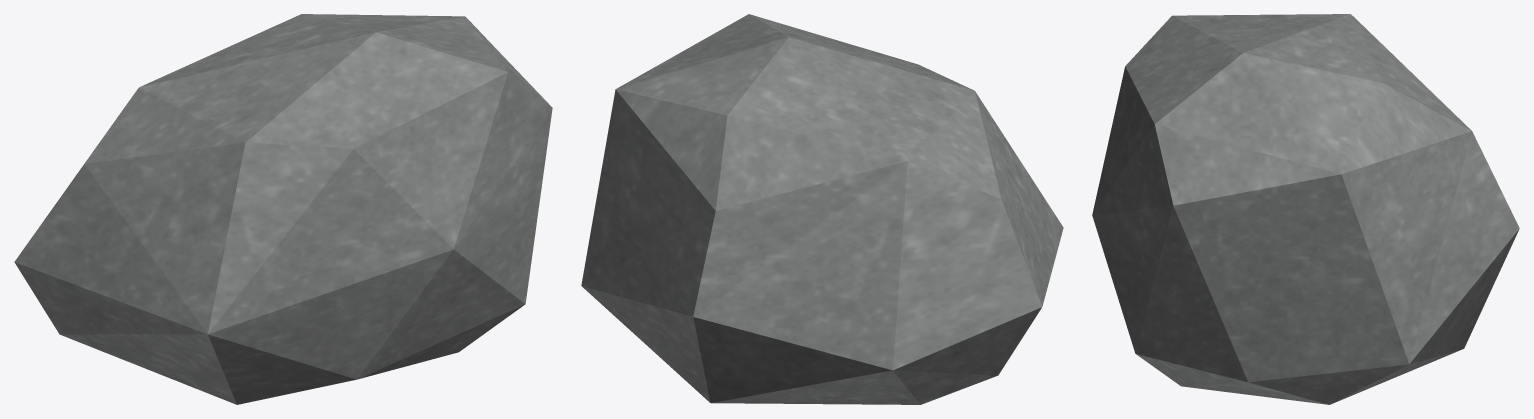
File: boulder_glacial_erratic.glb
3 views of the same model, side by side, from view 1: azimuth 30°, elevation 25°; view 2: azimuth 150°, elevation 25°; view 3: azimuth 270°, elevation 25° (orthographic). The views are drawn at different scales.
Visible parts, largest first — view 1: boulder_glacial_erratic; view 2: boulder_glacial_erratic; view 3: boulder_glacial_erratic.
Part boxes in pixels (box(x1,y1,x2,y2)): boulder_glacial_erratic: box(14, 14, 552, 404); boulder_glacial_erratic: box(581, 14, 1063, 404); boulder_glacial_erratic: box(1092, 14, 1519, 404).
Bounding box in the file's own units: 2.24 × 1.44 × 1.81.
1 material, 1 textured.
